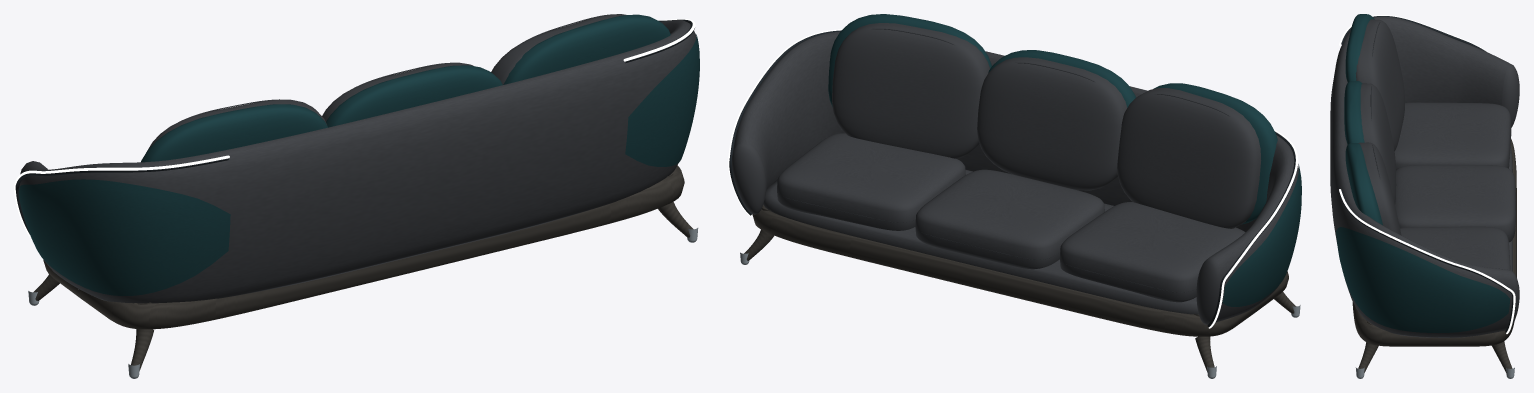
File: metapetal-dark-sofa-v2-dcl.glb
The picture shows the model from 3 angles, left to right: view 1: azimuth 30°, elevation 25°; view 2: azimuth 150°, elevation 25°; view 3: azimuth 270°, elevation 25°; orthographic projection. The views are drawn at different scales.
Parts seen in each view (by area): view 1: 02_Graphite_Wraparound_Shell, 03_Midnight_Teal_Insets, 01_Smoked_Walnut_Frame, 07_Petal_Back_Cushions, 09_Emissive_Arm_Edges, 08_Arm_Light_Housings; view 2: 07_Petal_Back_Cushions, 04_Three_Seat_Cushions, 02_Graphite_Wraparound_Shell, 01_Smoked_Walnut_Frame, 03_Midnight_Teal_Insets, 08_Arm_Light_Housings, 09_Emissive_Arm_Edges, 06_Tailored_Seams; view 3: 04_Three_Seat_Cushions, 03_Midnight_Teal_Insets, 02_Graphite_Wraparound_Shell, 07_Petal_Back_Cushions, 01_Smoked_Walnut_Frame, 09_Emissive_Arm_Edges, 08_Arm_Light_Housings, 06_Tailored_Seams, 05_Titanium_Feet.
Part boxes in pixels (x1=…): 02_Graphite_Wraparound_Shell: x1=19, y1=19, x2=696, y2=303; 03_Midnight_Teal_Insets: x1=19, y1=14, x2=699, y2=295; 01_Smoked_Walnut_Frame: x1=33, y1=165, x2=693, y2=370; 07_Petal_Back_Cushions: x1=146, y1=14, x2=626, y2=152; 09_Emissive_Arm_Edges: x1=14, y1=19, x2=695, y2=240; 08_Arm_Light_Housings: x1=15, y1=19, x2=694, y2=234; 07_Petal_Back_Cushions: x1=832, y1=23, x2=1261, y2=228; 04_Three_Seat_Cushions: x1=777, y1=133, x2=1245, y2=302; 02_Graphite_Wraparound_Shell: x1=732, y1=31, x2=1298, y2=324; 01_Smoked_Walnut_Frame: x1=744, y1=205, x2=1296, y2=371; 03_Midnight_Teal_Insets: x1=828, y1=14, x2=1301, y2=306; 08_Arm_Light_Housings: x1=729, y1=30, x2=1296, y2=327; 09_Emissive_Arm_Edges: x1=728, y1=29, x2=1298, y2=328; 06_Tailored_Seams: x1=777, y1=28, x2=1230, y2=292; 04_Three_Seat_Cushions: x1=1394, y1=102, x2=1515, y2=270; 03_Midnight_Teal_Insets: x1=1336, y1=14, x2=1510, y2=332; 02_Graphite_Wraparound_Shell: x1=1330, y1=16, x2=1519, y2=337; 07_Petal_Back_Cushions: x1=1355, y1=19, x2=1404, y2=235; 01_Smoked_Walnut_Frame: x1=1352, y1=139, x2=1516, y2=373; 09_Emissive_Arm_Edges: x1=1339, y1=15, x2=1515, y2=333; 08_Arm_Light_Housings: x1=1341, y1=16, x2=1515, y2=332; 06_Tailored_Seams: x1=1370, y1=22, x2=1515, y2=235; 05_Titanium_Feet: x1=1355, y1=367, x2=1514, y2=378.
Size of what is drawn, in the model's own units: 3.12 by 1.15 by 1.08.
Materials: 8 (3 with a texture image).
